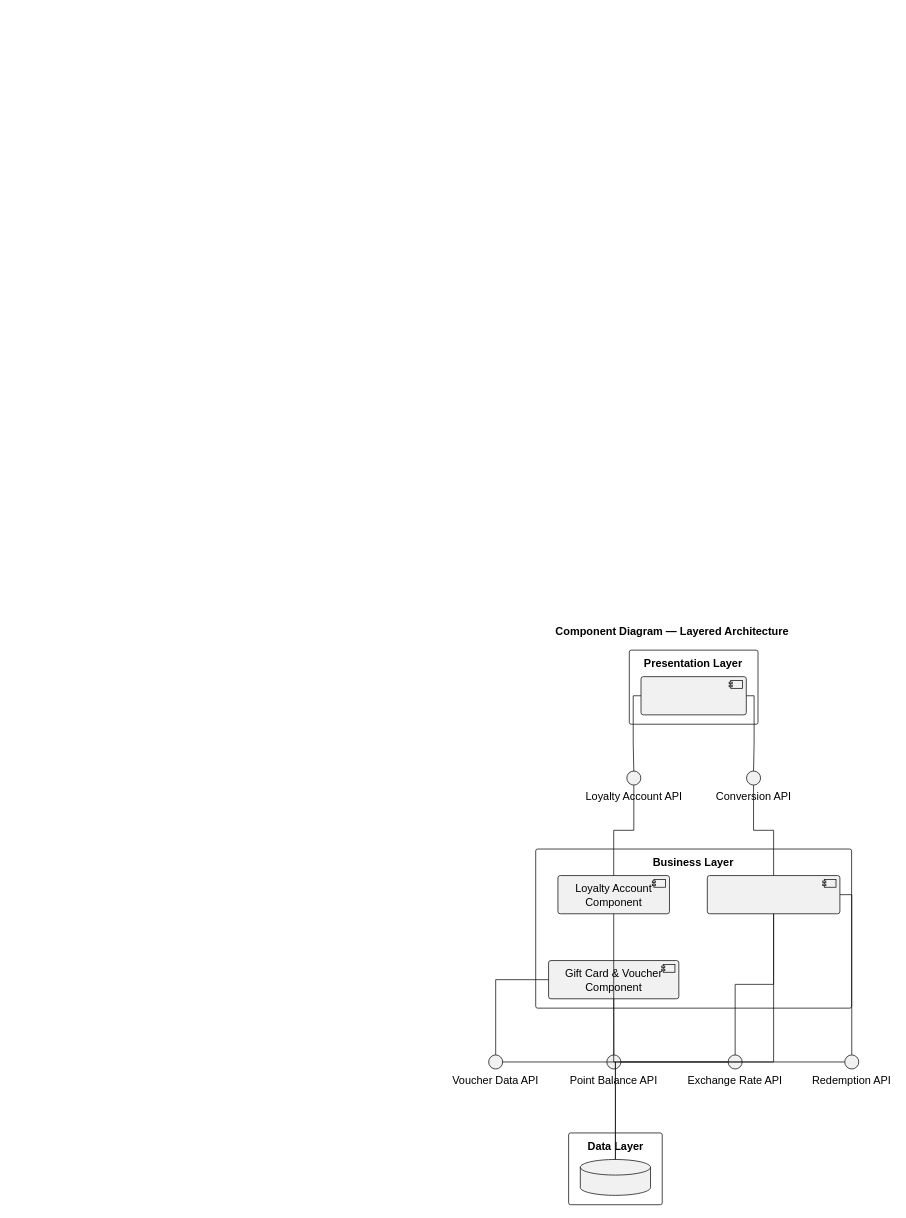
The diagram is 906 pixels wide and 1218 high, and some of its shapes have lost their labels. Each missing label, with the centre of its shape:
"Conversion Service Component" belongs at point 773,894.
"Database Component" belongs at point 615,1177.
"User Interface Component" belongs at point 693,695.
